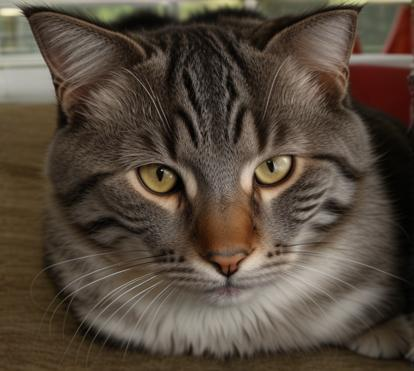cat: (11, 4, 409, 365)
